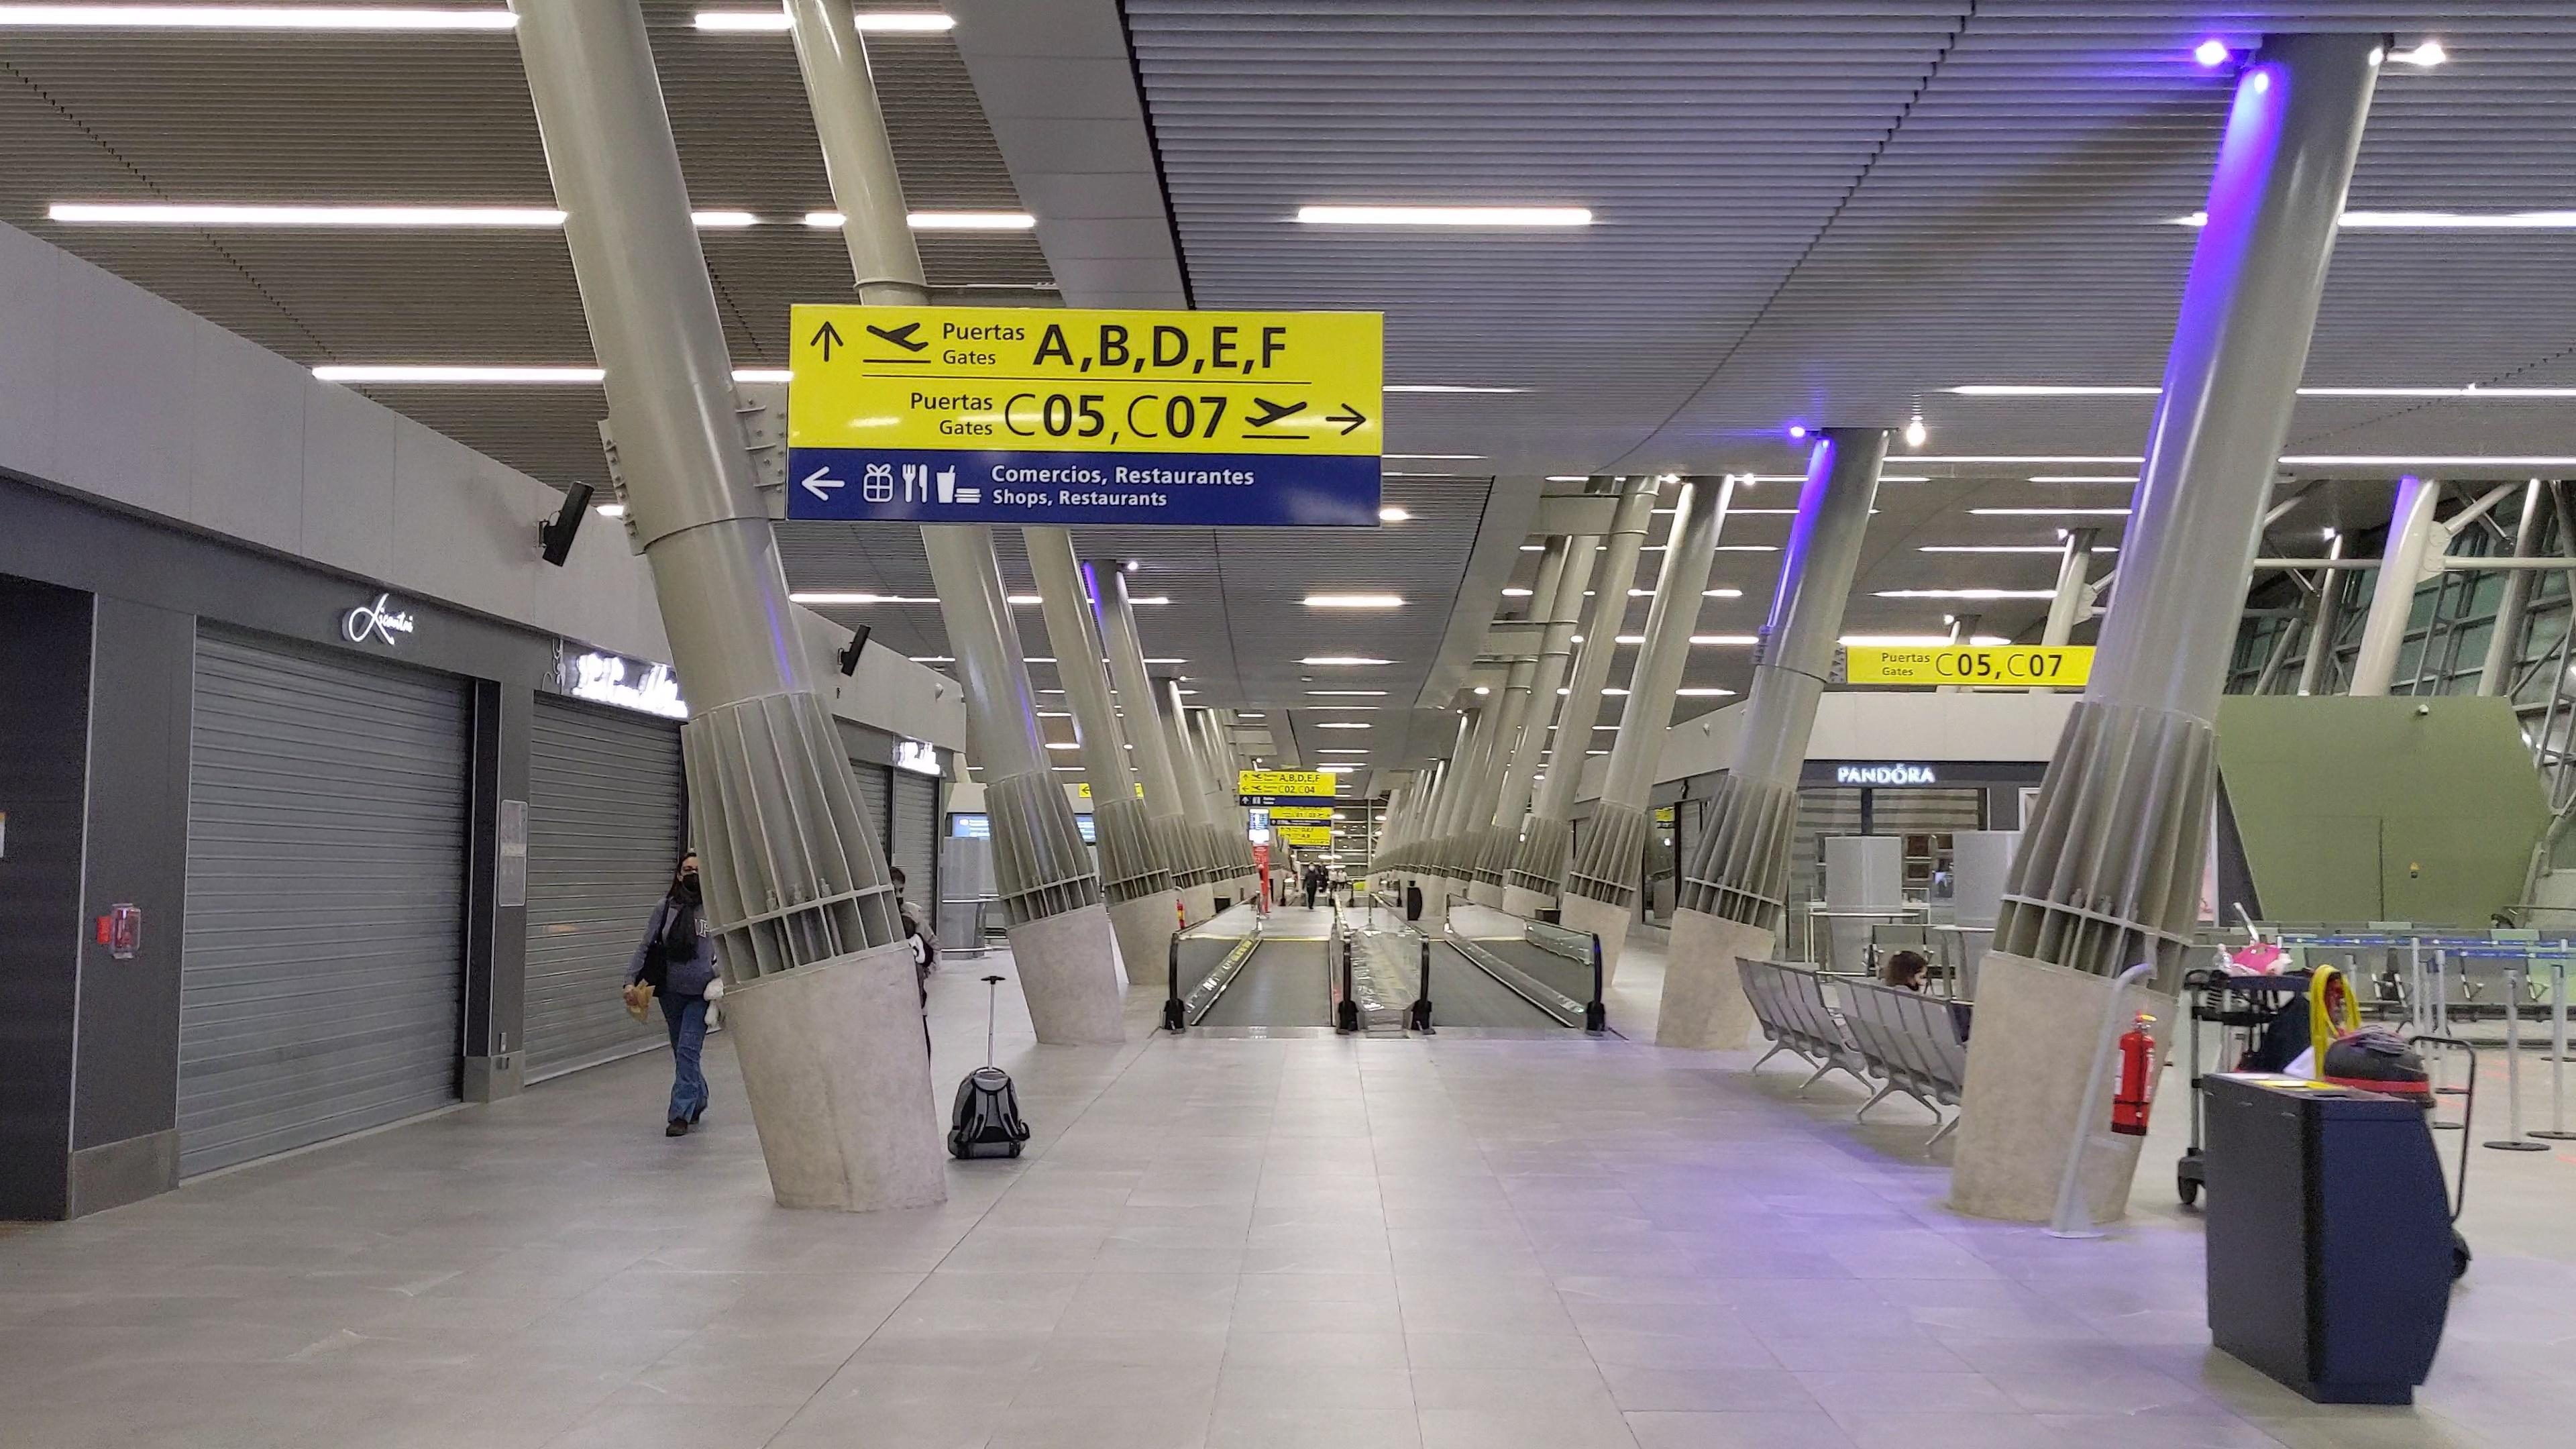airplane symbol: (863, 317, 932, 356), (1244, 393, 1311, 428), (1251, 784, 1261, 791), (1251, 773, 1261, 778), (1316, 812, 1323, 817)
restaurants: (899, 462, 931, 506)
thin left arrow: (801, 464, 847, 504), (1081, 786, 1090, 794), (1242, 786, 1249, 793)
thin right arrow: (1322, 400, 1369, 439)
thin up arrow: (810, 320, 846, 364), (1242, 773, 1249, 782)
